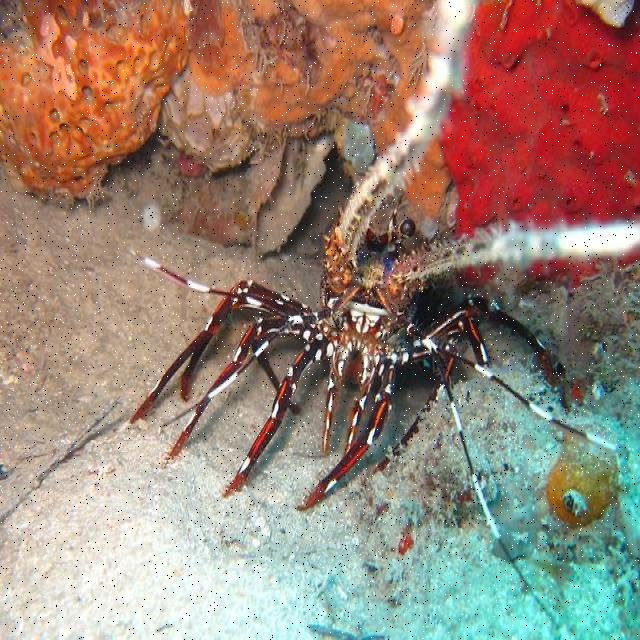reefs: (128, 1, 639, 623)
